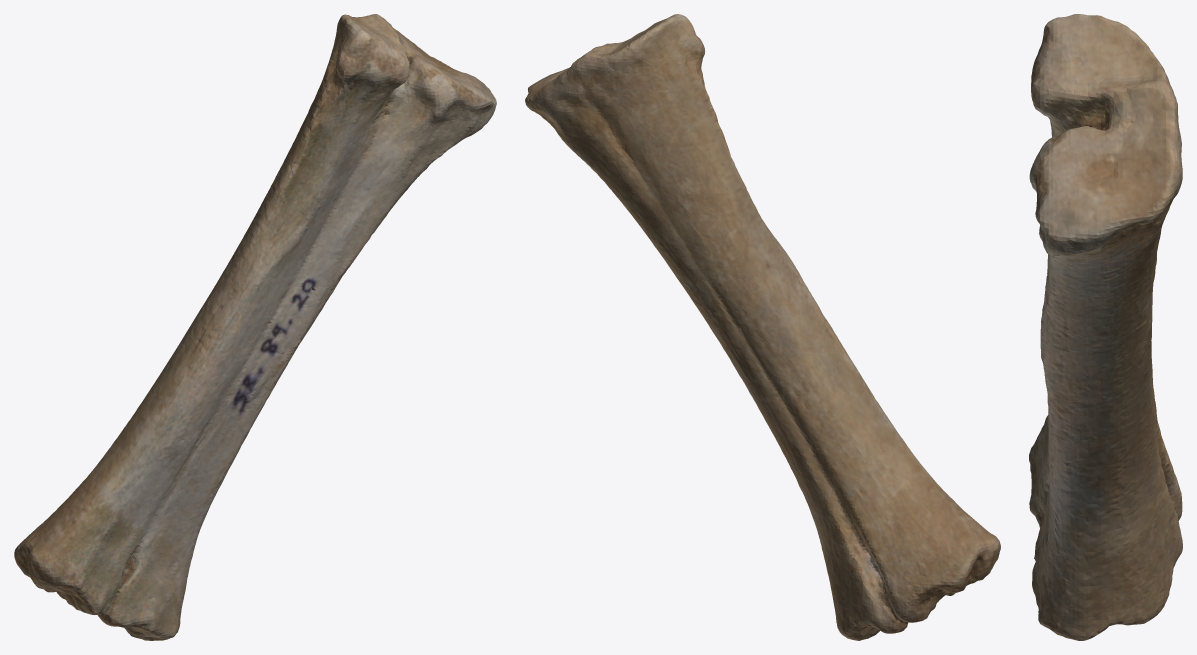
3 views of the same model, side by side, from view 1: azimuth 30°, elevation 25°; view 2: azimuth 150°, elevation 25°; view 3: azimuth 270°, elevation 25° (orthographic). The views are drawn at different scales.
Parts seen in each view (by area): view 1: Node; view 2: Node; view 3: Node.
Boxes of the visible parts, x1,y1,x2,y2 form: Node: [14, 14, 496, 640]; Node: [525, 14, 1000, 640]; Node: [1029, 14, 1182, 640].
Size of the model in its own units: 147 by 171 by 31.94.
Materials: 1 (1 with a texture image).
